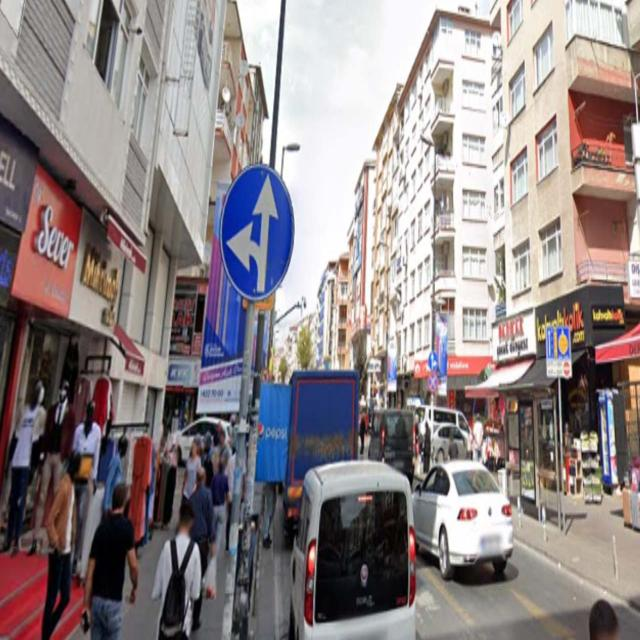ilerisag: (428, 350, 438, 370)
ilerisol: (218, 159, 294, 305)
